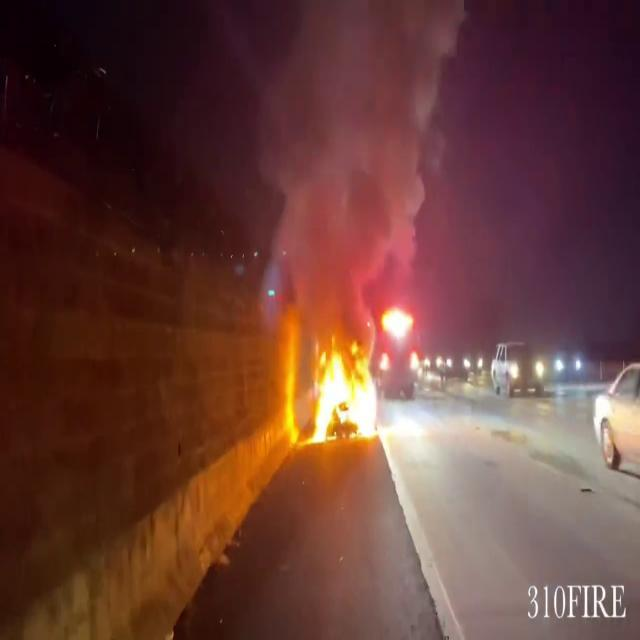Fire: (285, 331, 383, 446)
Smoke: (234, 1, 470, 297)
